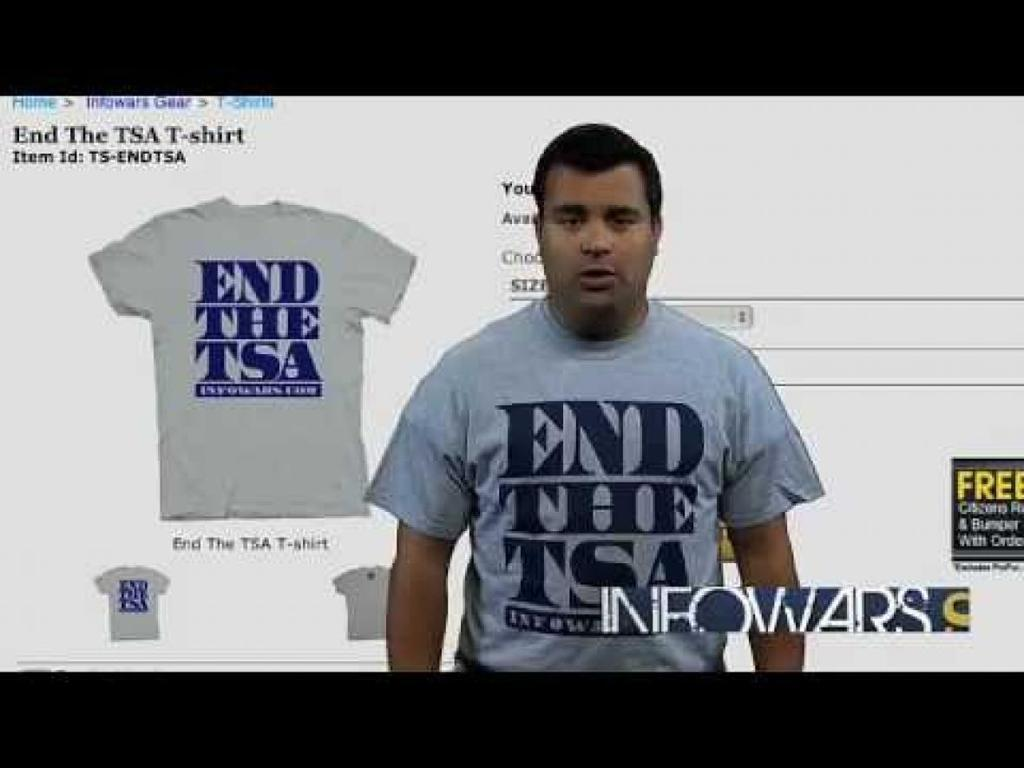face: (553, 171, 645, 317)
